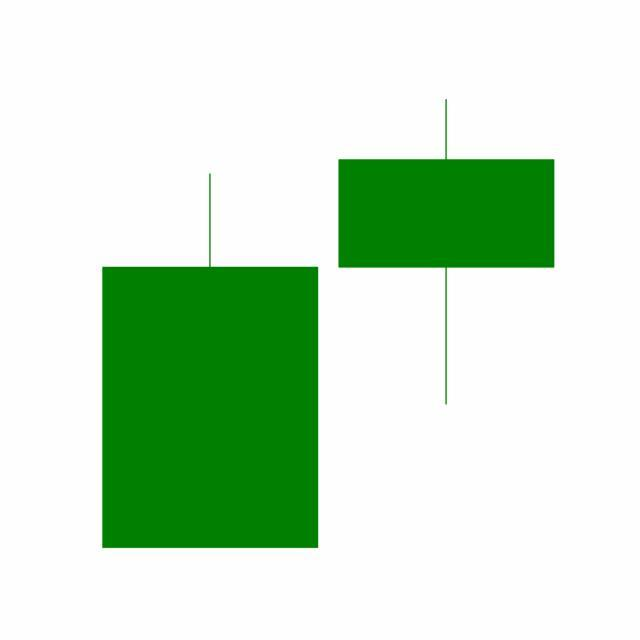Hammer: (328, 96, 566, 409)
